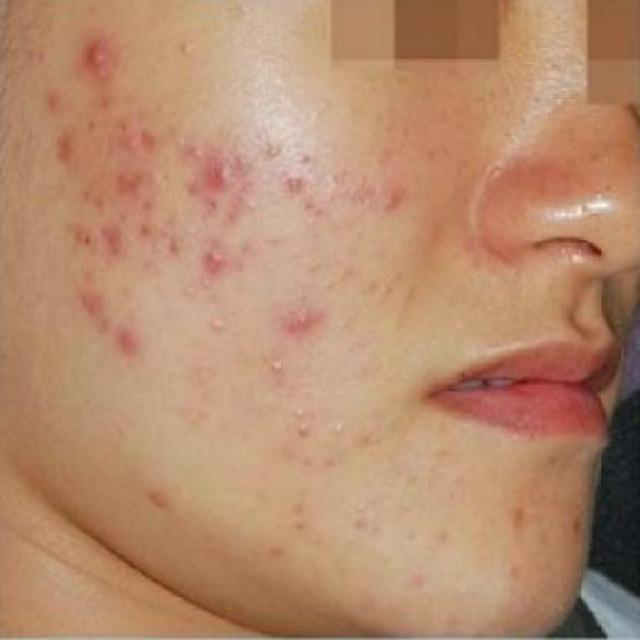dark spot: (196, 232, 242, 290), (106, 322, 149, 362)
papules: (74, 30, 131, 84), (198, 148, 252, 199), (280, 300, 332, 340)
